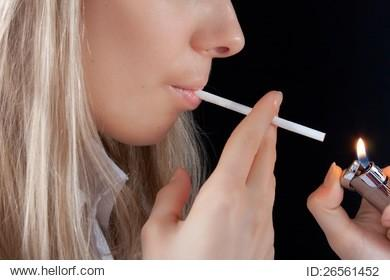Cigarette: (196, 90, 326, 142)
